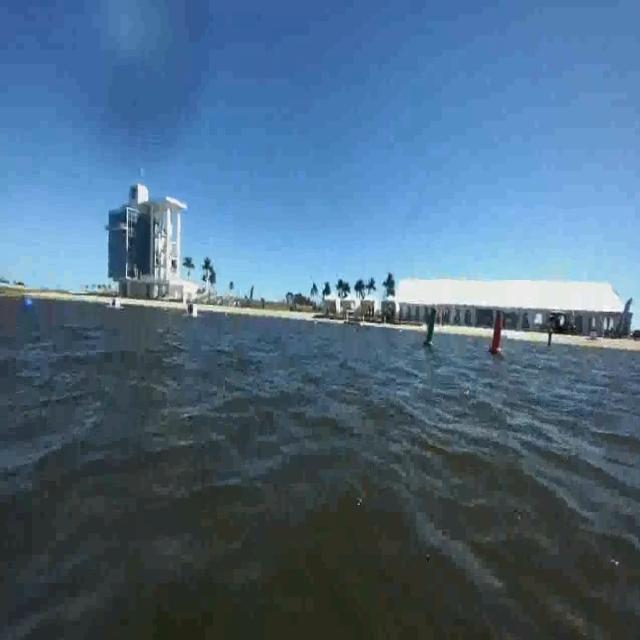blue-buoy: (21, 289, 36, 315)
green-column-buoy: (423, 308, 439, 350)
red-column-buoy: (486, 304, 507, 364)
